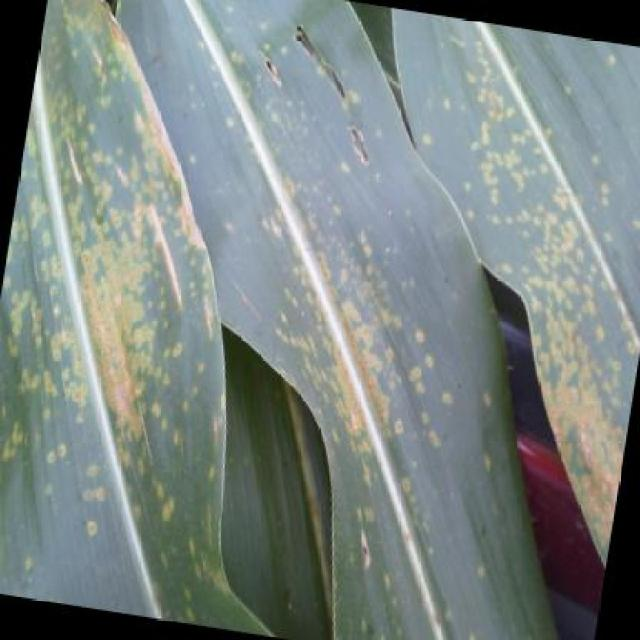Corn_Rust: (40, 48, 288, 592), (409, 48, 622, 460)
